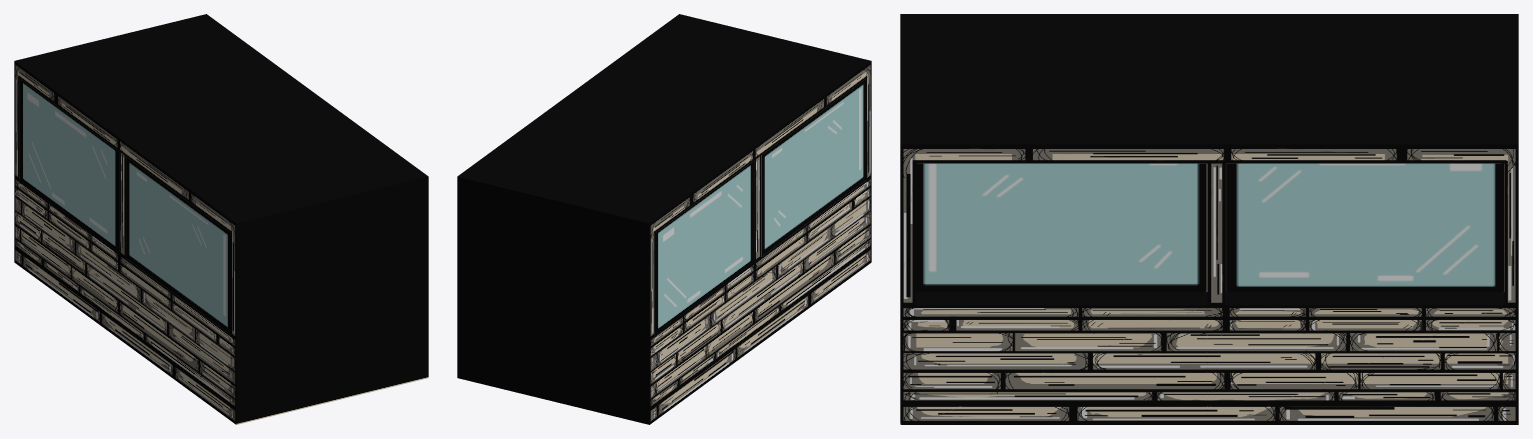
The model's file is paredPrincipal2.fbx.
3 views of the same model, side by side, from view 1: azimuth 30°, elevation 25°; view 2: azimuth 150°, elevation 25°; view 3: azimuth 270°, elevation 25° (orthographic). The views are drawn at different scales.
Visible parts, largest first — view 1: pCube2; view 2: pCube2; view 3: pCube2.
Boxes of the visible parts, x1,y1,x2,y2 form: pCube2: [14, 14, 428, 424]; pCube2: [457, 14, 871, 424]; pCube2: [900, 14, 1518, 424].
Bounding box in the file's own units: 1 × 1 × 2.
Materials: 1 (1 with a texture image).
